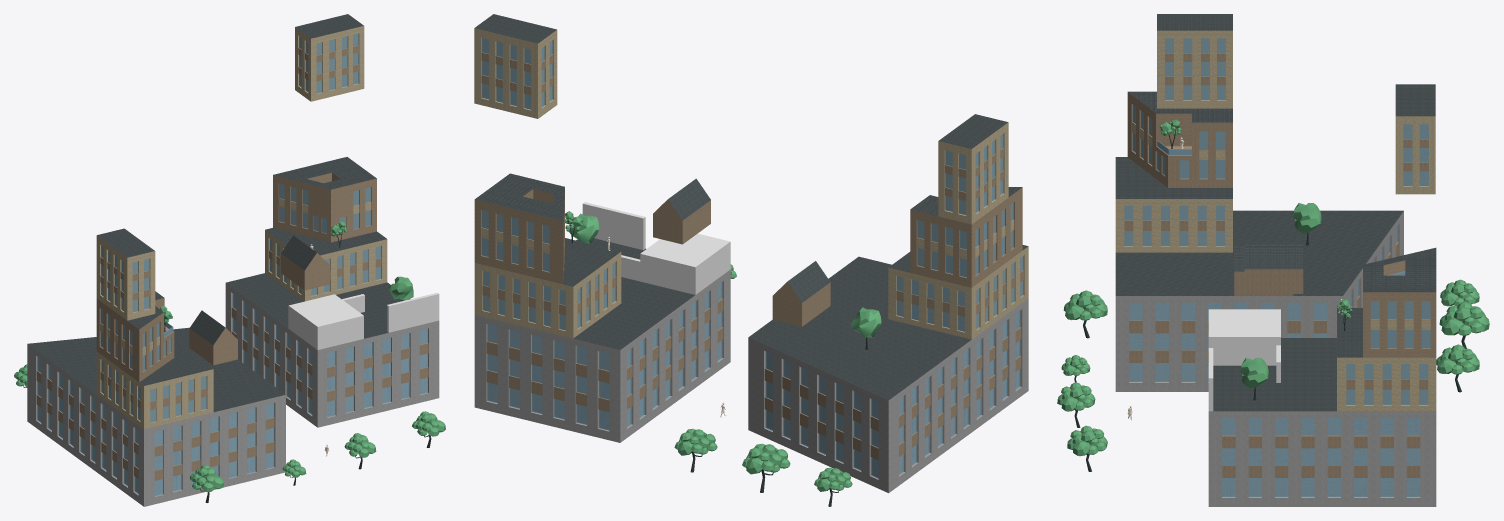
File: demo.obj
3 renders of one model, left to right at view 1: azimuth 30°, elevation 25°; view 2: azimuth 150°, elevation 25°; view 3: azimuth 270°, elevation 25°, orthographic. The views are drawn at different scales.
Size of the model in its own units: 52.62 by 47.73 by 47.85.
